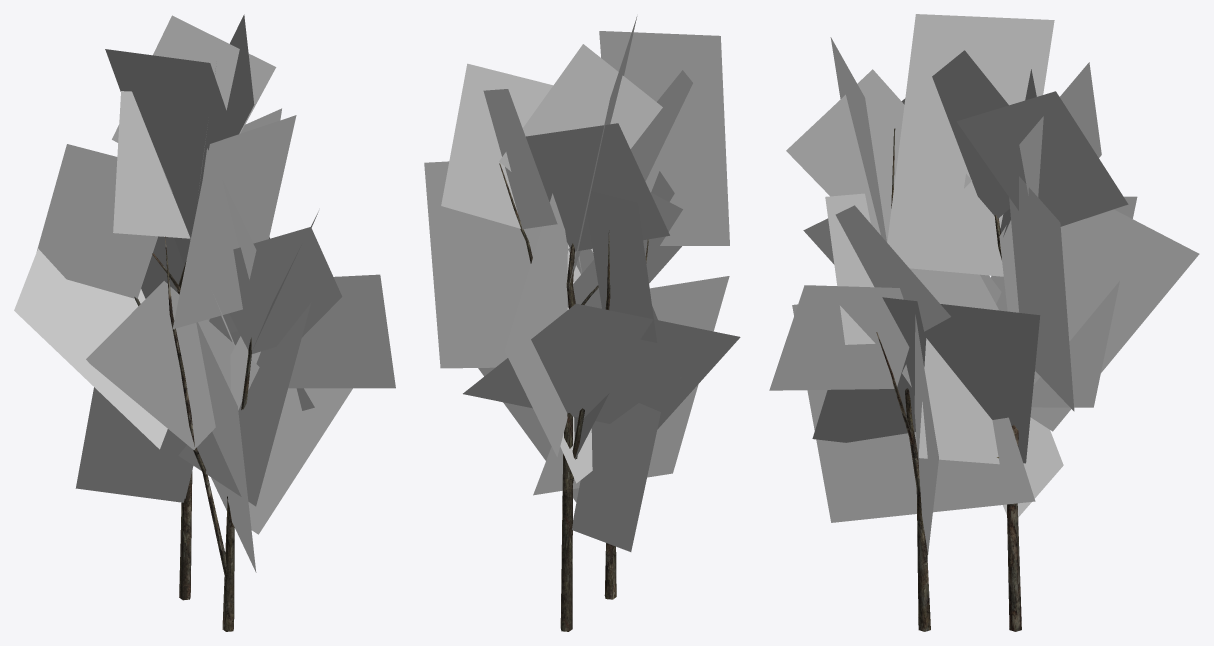
File: trunks1.fbx
3 renders of one model, left to right at view 1: azimuth 30°, elevation 25°; view 2: azimuth 150°, elevation 25°; view 3: azimuth 270°, elevation 25°, orthographic. The views are drawn at different scales.
Parts seen in each view (by area): view 1: polySurface45; view 2: polySurface45; view 3: polySurface45.
Boxes of the visible parts, box(x1,y1,x2,y2) form: polySurface45: box(14, 14, 395, 631); polySurface45: box(424, 16, 740, 631); polySurface45: box(769, 14, 1199, 631).
Bounding box in the file's own units: 33.93 × 56.33 × 36.41.
